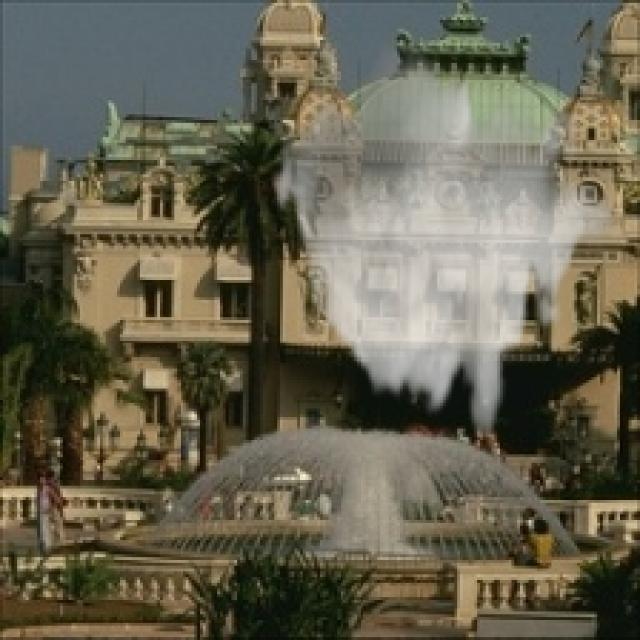smoke: (269, 29, 614, 440)
